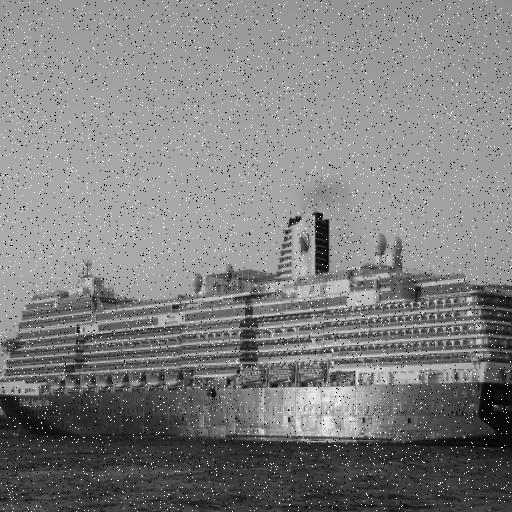cruises: (1, 205, 512, 453)
